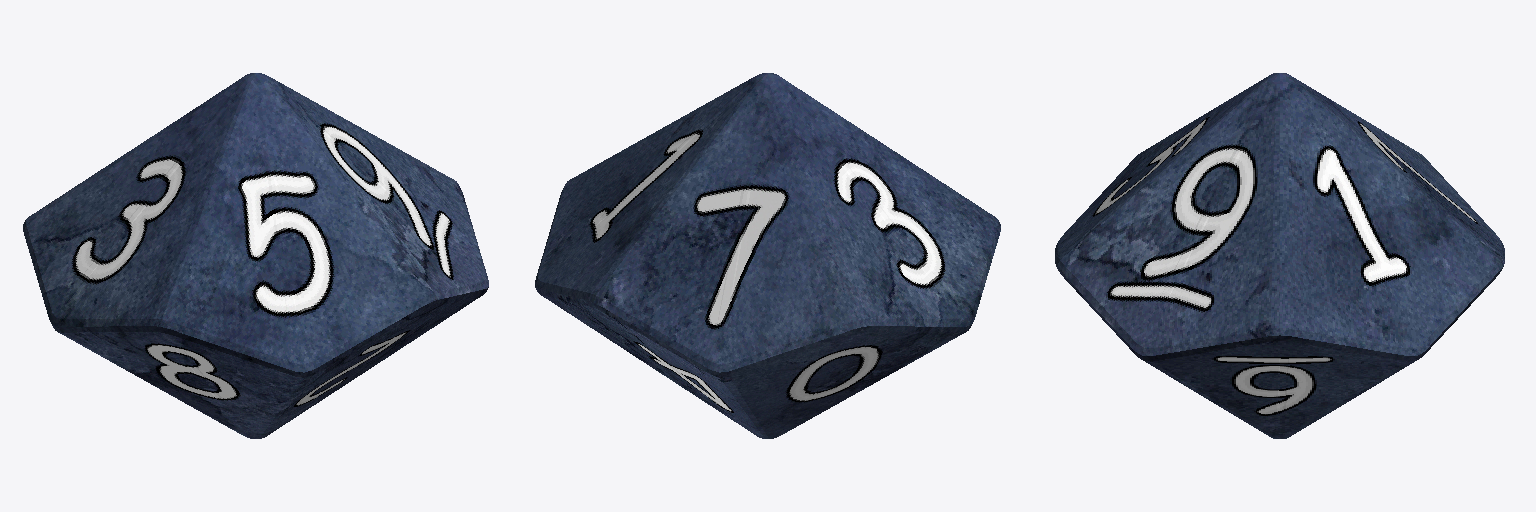
3 renders of one model, left to right at view 1: azimuth 30°, elevation 25°; view 2: azimuth 150°, elevation 25°; view 3: azimuth 270°, elevation 25°, orthographic.
Parts seen in each view (by area): view 1: d00_smooth; view 2: d00_smooth; view 3: d00_smooth.
Boxes of the visible parts, x1=… form: d00_smooth: x1=23, y1=73, x2=488, y2=438; d00_smooth: x1=535, y1=73, x2=1000, y2=438; d00_smooth: x1=1055, y1=73, x2=1504, y2=438.
Size of the model in its own units: 7.64 by 6.59 by 7.32.
Materials: 1 (1 with a texture image).